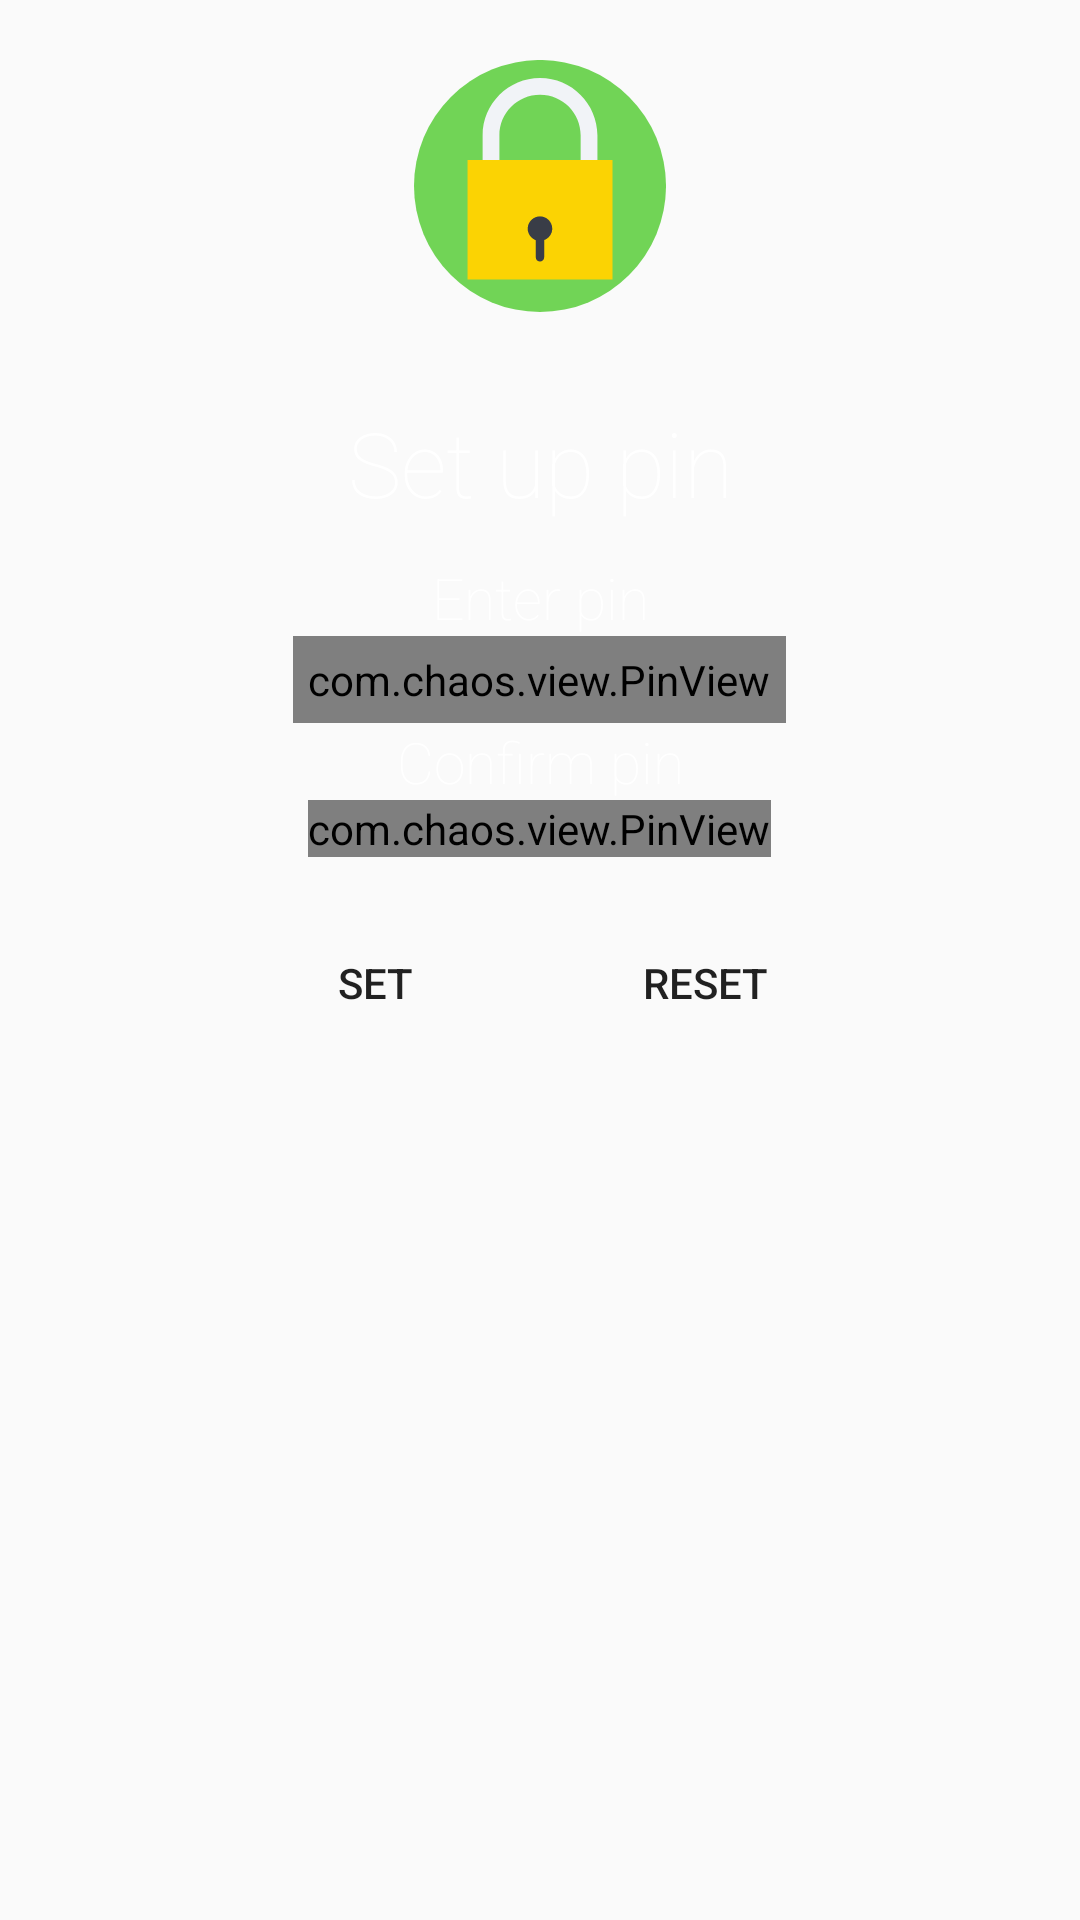

Where to tap for icons on this 1080x1920 app screen, as [x,y]:
lock: [540,186]
